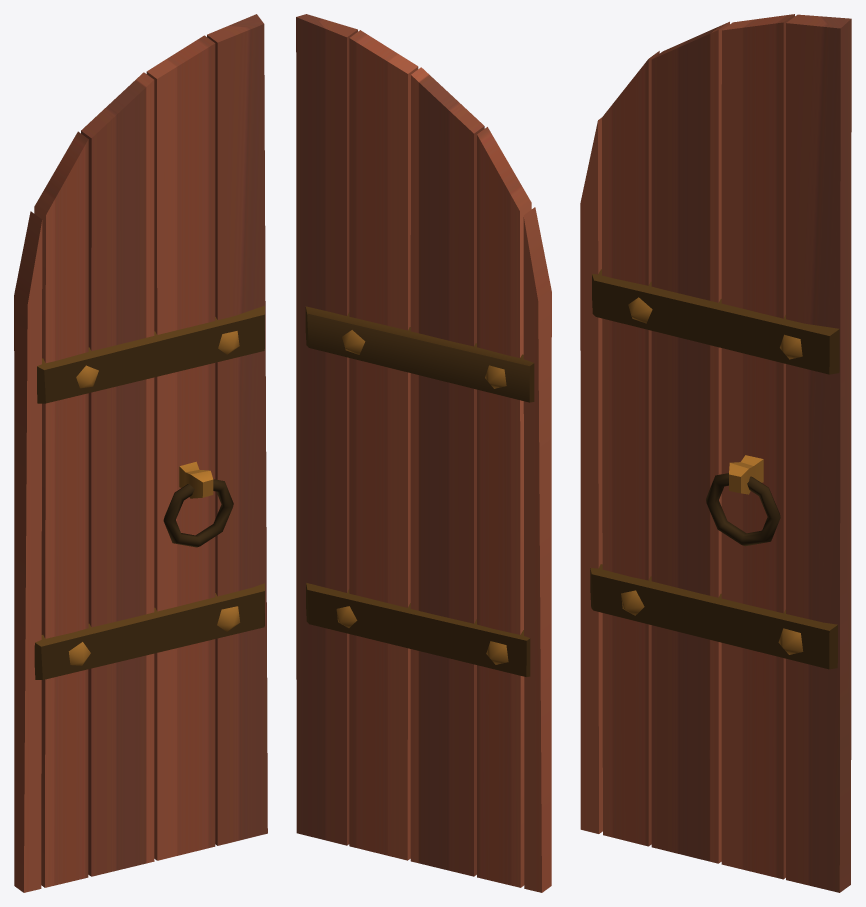
The model's file is Castle-gate-door-left.fbx.
3 views of the same model, side by side, from view 1: azimuth 30°, elevation 25°; view 2: azimuth 150°, elevation 25°; view 3: azimuth 330°, elevation 25° (orthographic). The views are drawn at different scales.
Parts seen in each view (by area): view 1: Castle-gate-door-left; view 2: Castle-gate-door-left; view 3: Castle-gate-door-left.
Part boxes in pixels (<box>): Castle-gate-door-left: <box>14,14,267,892</box>; Castle-gate-door-left: <box>296,14,551,892</box>; Castle-gate-door-left: <box>580,14,851,892</box>.
Bounding box in the file's own units: 1.1 × 3.5 × 0.3051.
